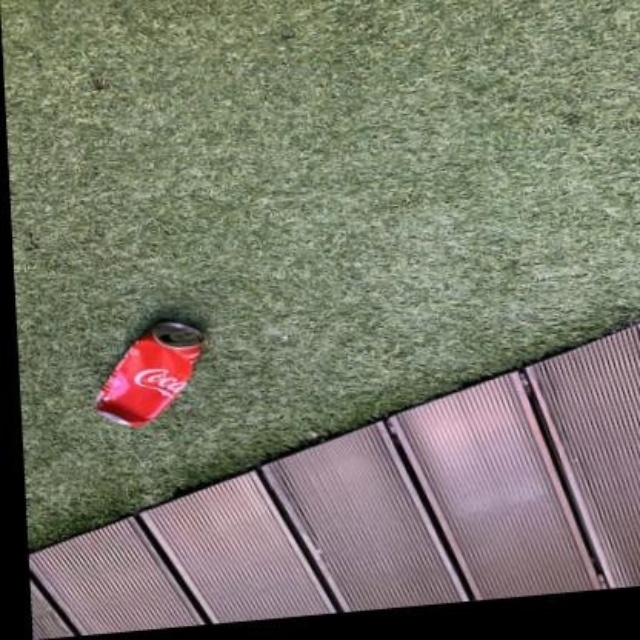trash: (97, 322, 202, 426)
